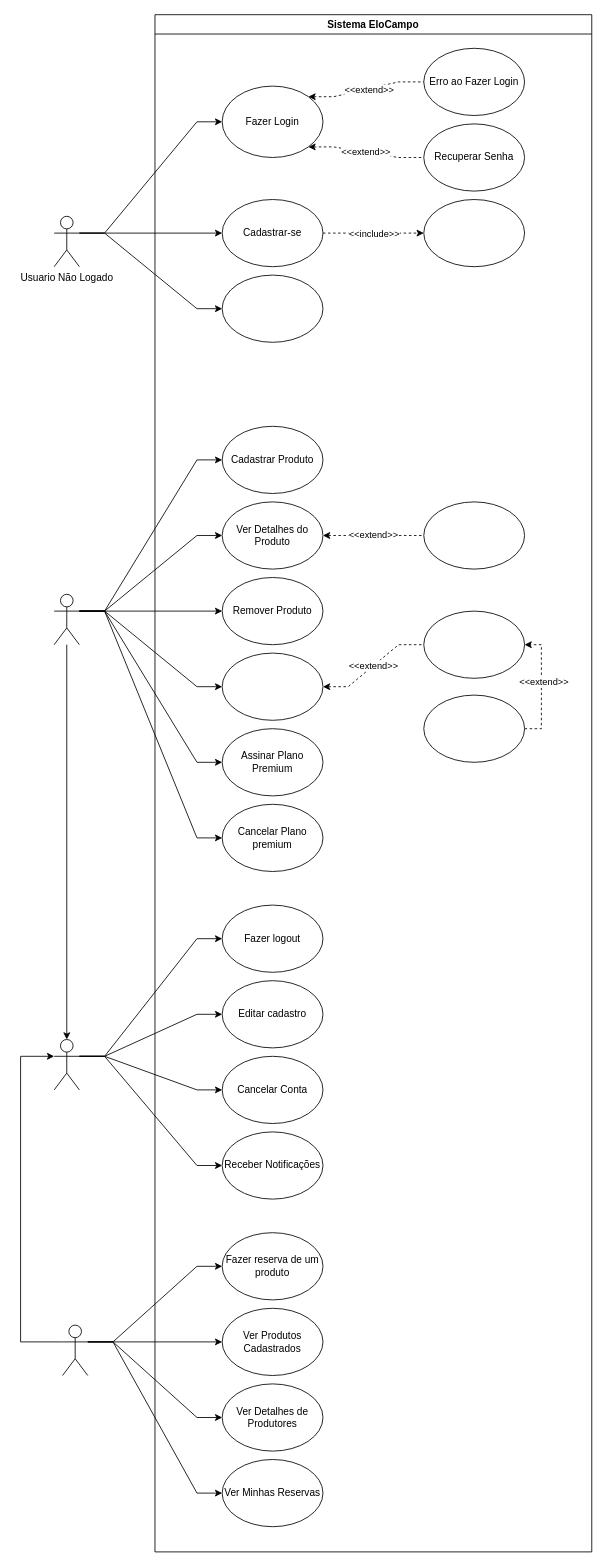
The diagram is 606 pixels wide and 1567 high, and some of its shapes have lost their labels. Each missing label, with the centre of its shape:
Cliente/Comerciante: (x=75, y=1350)
Editar Produto: (x=474, y=535)
Finalizar Entrega do Produto Reservado: (x=474, y=728)
Produtor Rural: (x=66, y=619)
Usuario Logado: (x=66, y=1064)
Ver Detalhes da Reserva: (x=474, y=644)
Ver Landing Page: (x=272, y=308)
Ver Reservas: (x=272, y=686)
Verificar Email: (x=474, y=233)
